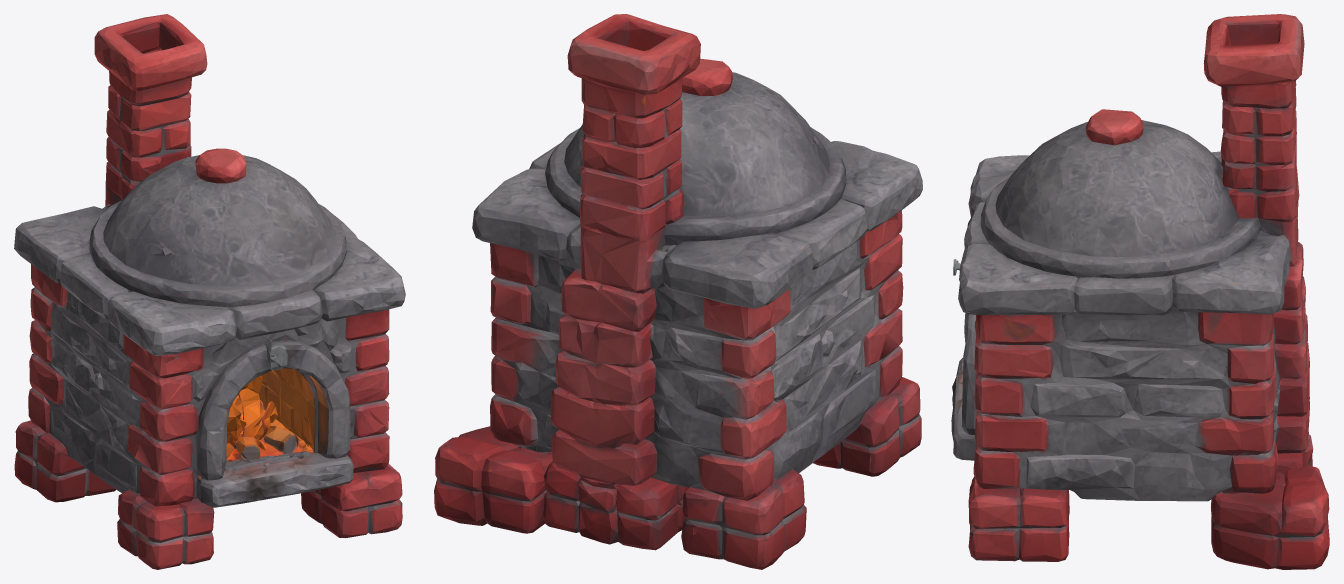
The model's file is modelo.glb.
The picture shows the model from 3 angles, left to right: view 1: azimuth 30°, elevation 25°; view 2: azimuth 150°, elevation 25°; view 3: azimuth 270°, elevation 25°; orthographic projection. The views are drawn at different scales.
Visible parts, largest first — view 1: Mesh_0; view 2: Mesh_0; view 3: Mesh_0.
Part boxes in pixels (left/top/right/bottom): Mesh_0: left=14, top=14, right=405, bottom=569; Mesh_0: left=434, top=14, right=922, bottom=569; Mesh_0: left=951, top=14, right=1329, bottom=569.
Bounding box in the file's own units: 0.5299 × 0.8072 × 0.5905.
Materials: 1 (1 with a texture image).
